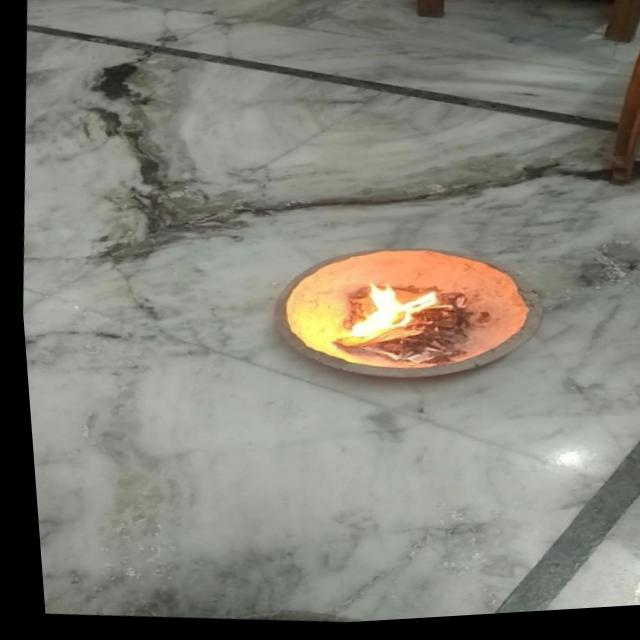fire: (329, 271, 445, 358)
